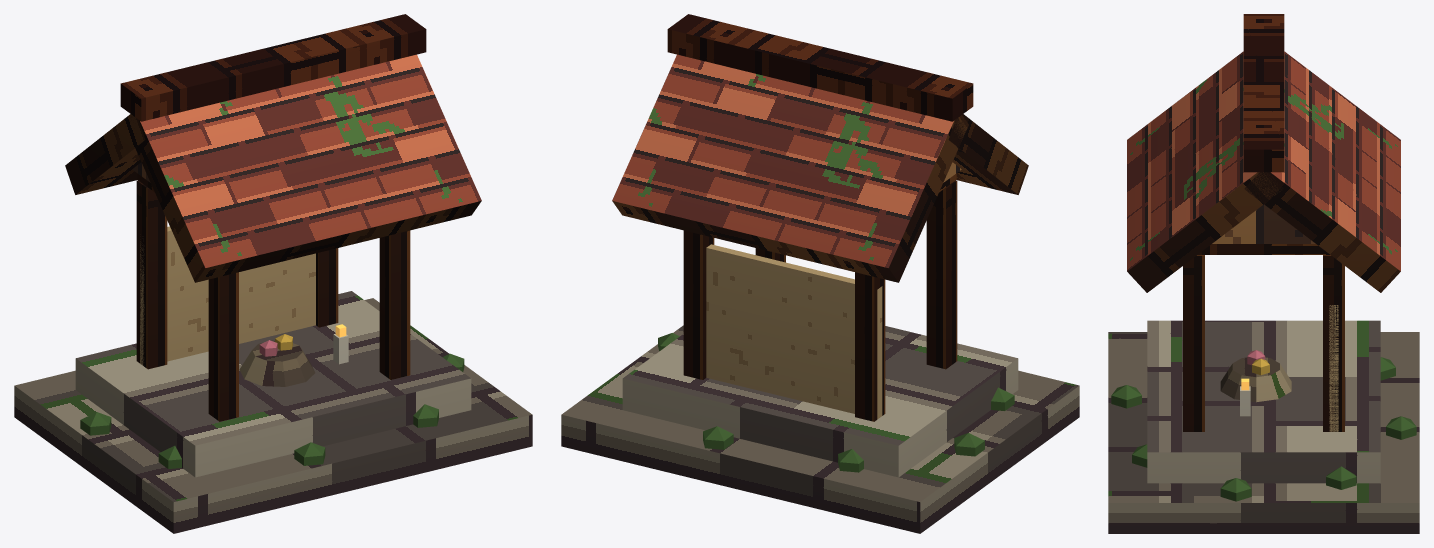
The model's file is shrine.glb.
3 renders of one model, left to right at view 1: azimuth 30°, elevation 25°; view 2: azimuth 150°, elevation 25°; view 3: azimuth 270°, elevation 25°, orthographic. The views are drawn at different scales.
Visible parts, largest first — view 1: shrine; view 2: shrine; view 3: shrine.
Boxes of the visible parts, x1=… form: shrine: x1=14, y1=14, x2=532, y2=533; shrine: x1=561, y1=14, x2=1079, y2=533; shrine: x1=1108, y1=14, x2=1419, y2=533.
Bounding box in the file's own units: 2.6 × 2.6 × 2.
6 materials, 4 textured.
